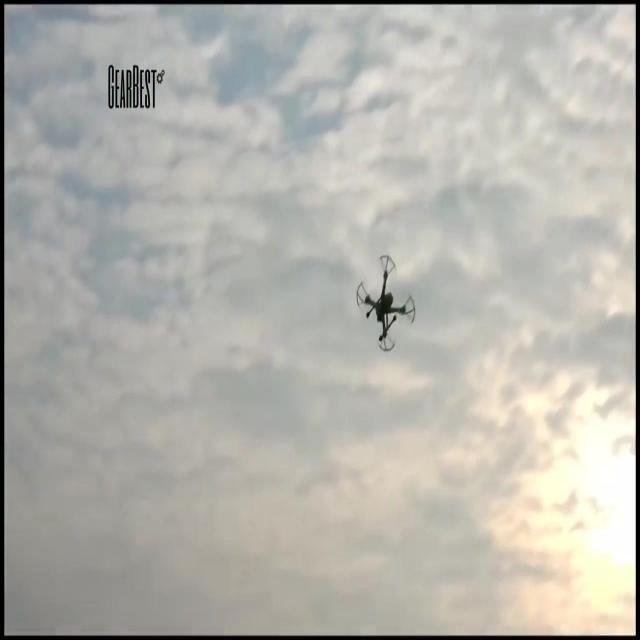UAV: (356, 254, 416, 351)
